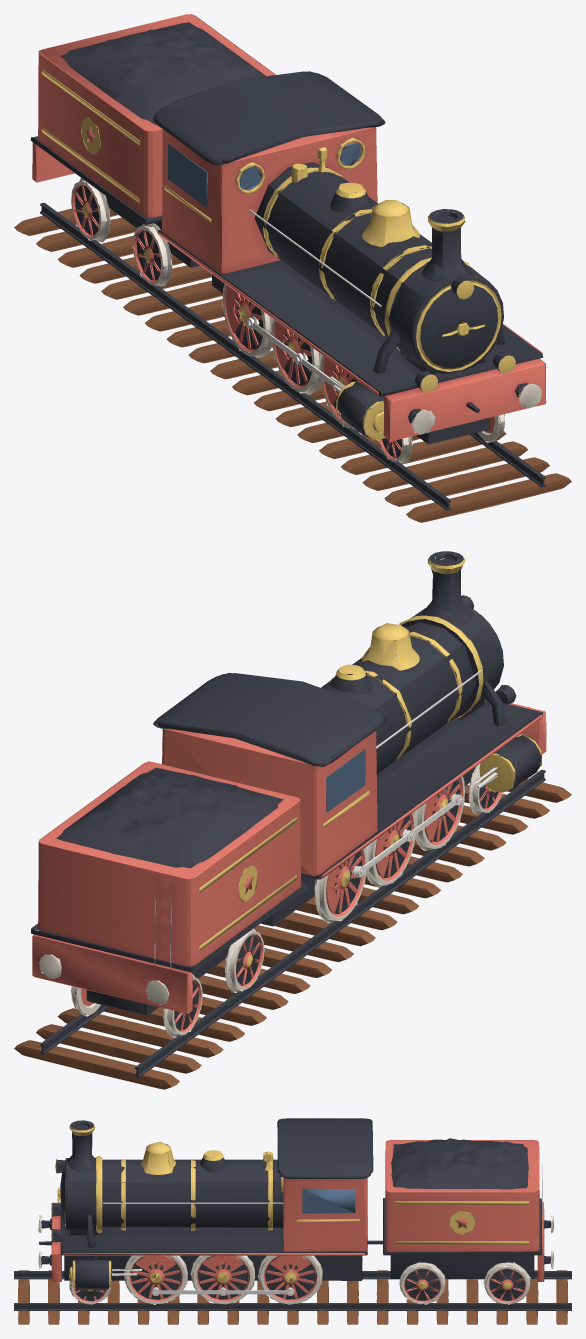
File: locomotora.glb
The picture shows the model from 3 angles, top to bottom: view 1: azimuth 30°, elevation 25°; view 2: azimuth 150°, elevation 25°; view 3: azimuth 270°, elevation 25°; orthographic projection. The views are drawn at different scales.
Visible parts, largest first — view 1: steam-train_body; view 2: steam-train_body; view 3: steam-train_body.
Part boxes in pixels (x1=…): steam-train_body: x1=14, y1=14, x2=571, y2=522; steam-train_body: x1=14, y1=551, x2=571, y2=1089; steam-train_body: x1=14, y1=1118, x2=571, y2=1324.
Size of the model in its own units: 2.89 by 3.89 by 11.2.
Materials: 59 (1 with a texture image).
